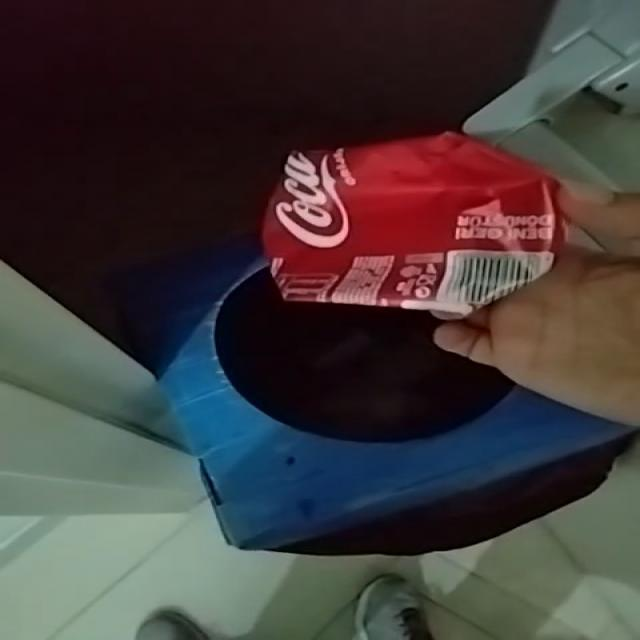bin: (160, 263, 635, 556)
metal: (263, 132, 565, 315)
